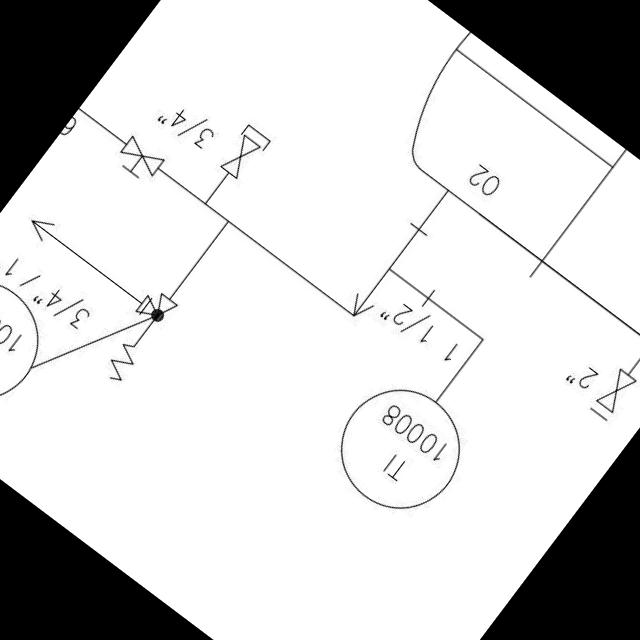EC: (204, 114, 278, 194)
GV: (588, 362, 640, 420), (216, 131, 264, 185)
HV: (106, 130, 170, 193)
RPV: (88, 278, 186, 392)
